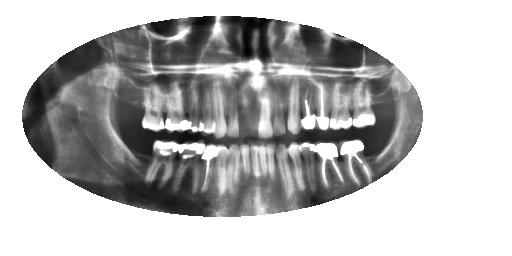Fillings: (147, 141, 177, 191), (139, 91, 164, 132), (165, 92, 189, 132), (180, 142, 201, 184), (330, 88, 350, 131), (354, 91, 375, 129), (187, 85, 201, 133)
Implant: (339, 139, 372, 178), (318, 141, 339, 190), (203, 138, 219, 193), (300, 85, 316, 132), (315, 84, 328, 131)
